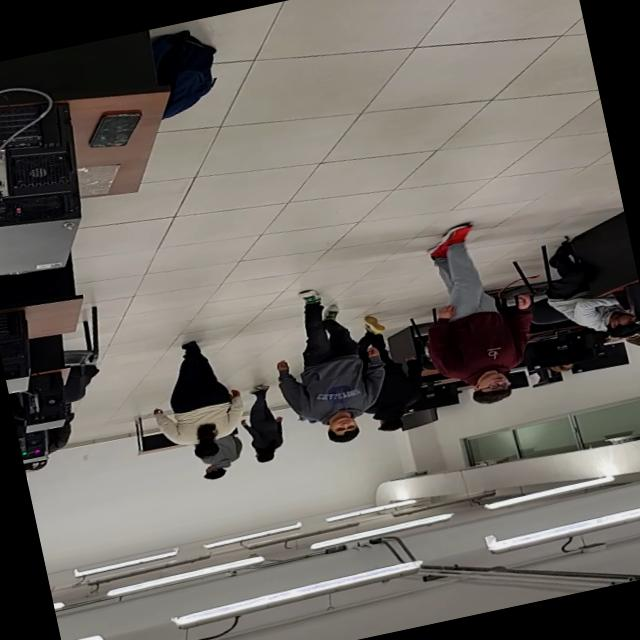Persona: (402, 214, 551, 414), (258, 276, 401, 454), (138, 333, 254, 468), (345, 306, 436, 435), (234, 380, 292, 466), (193, 431, 250, 482)
